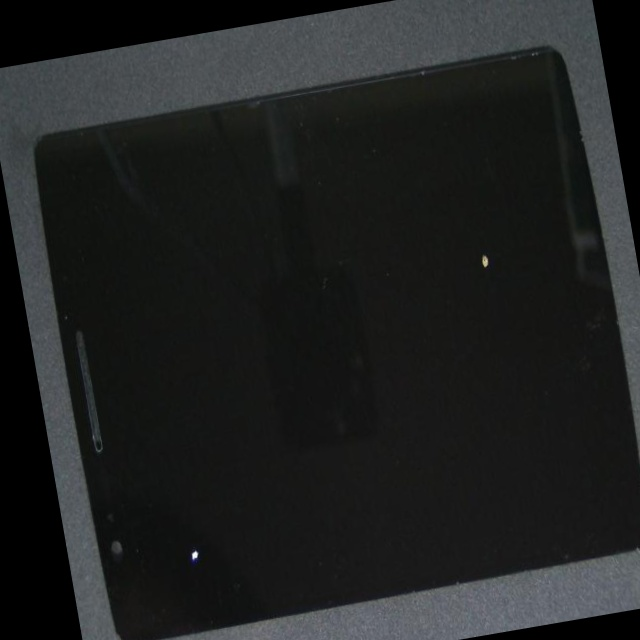stain: (211, 118, 640, 479), (86, 258, 264, 640)
